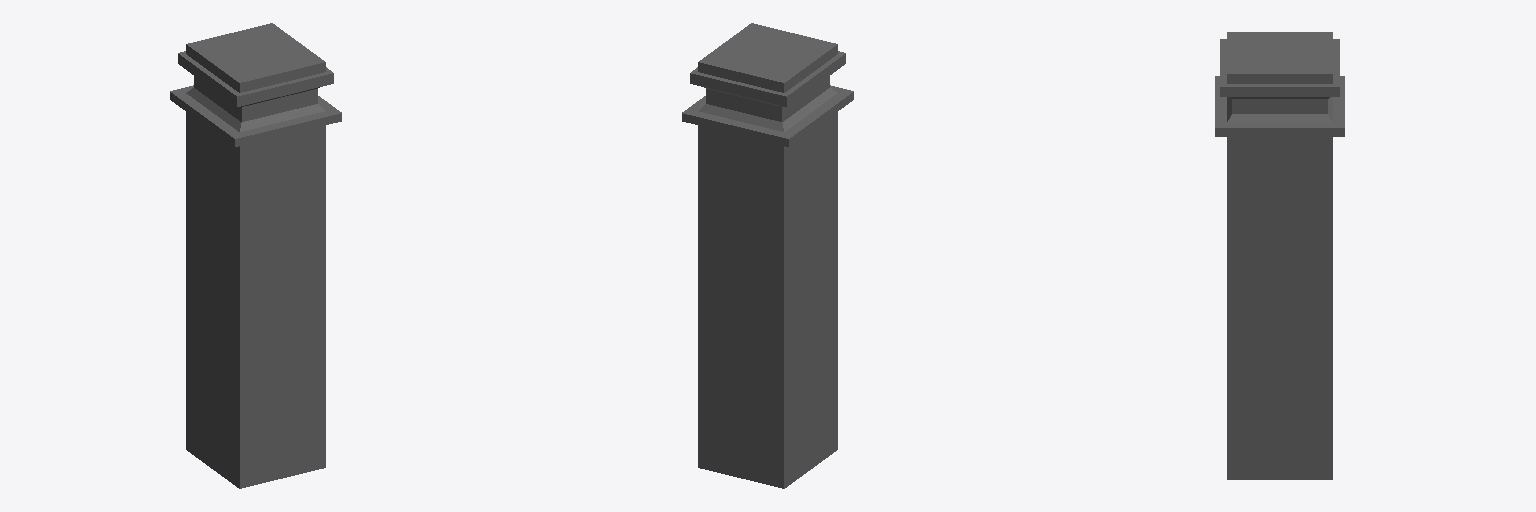
File: pillar.obj
3 views of the same model, side by side, from view 1: azimuth 30°, elevation 25°; view 2: azimuth 150°, elevation 25°; view 3: azimuth 270°, elevation 25° (orthographic).
Visible parts, largest first — view 1: Box001; view 2: Box001; view 3: Box001.
Boxes of the visible parts, x1=… form: Box001: x1=170, y1=23, x2=341, y2=488; Box001: x1=682, y1=23, x2=853, y2=488; Box001: x1=1215, y1=32, x2=1344, y2=479.
Bounding box in the file's own units: 13.34 × 48.23 × 14.11.